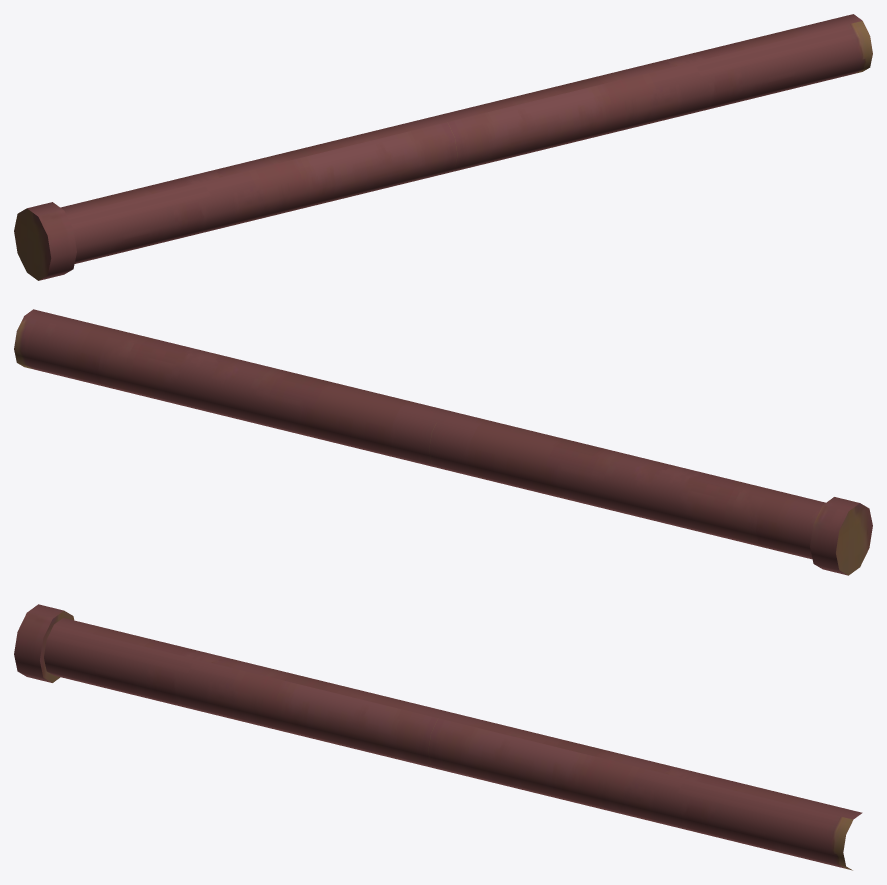
The picture shows the model from 3 angles, top to bottom: view 1: azimuth 30°, elevation 25°; view 2: azimuth 150°, elevation 25°; view 3: azimuth 330°, elevation 25°; orthographic projection.
Visible parts, largest first — view 1: body0_model0_lod0_mesh0; view 2: body0_model0_lod0_mesh0; view 3: body0_model0_lod0_mesh0.
Part boxes in pixels (x1,y1,x2,y2): body0_model0_lod0_mesh0: (14, 14, 872, 280); body0_model0_lod0_mesh0: (14, 309, 872, 575); body0_model0_lod0_mesh0: (14, 604, 862, 870).
Bounding box in the file's own units: 128 × 9.52 × 10.
Materials: 1 (1 with a texture image).
